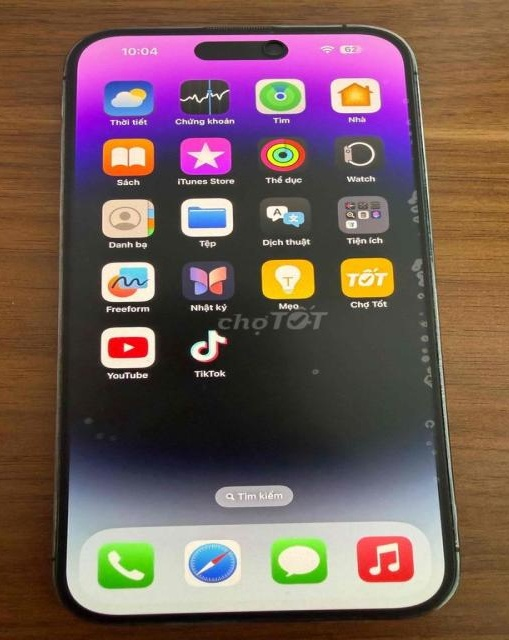scratch: (75, 404, 132, 454)
screen_defect: (407, 173, 452, 463), (297, 355, 332, 387)
